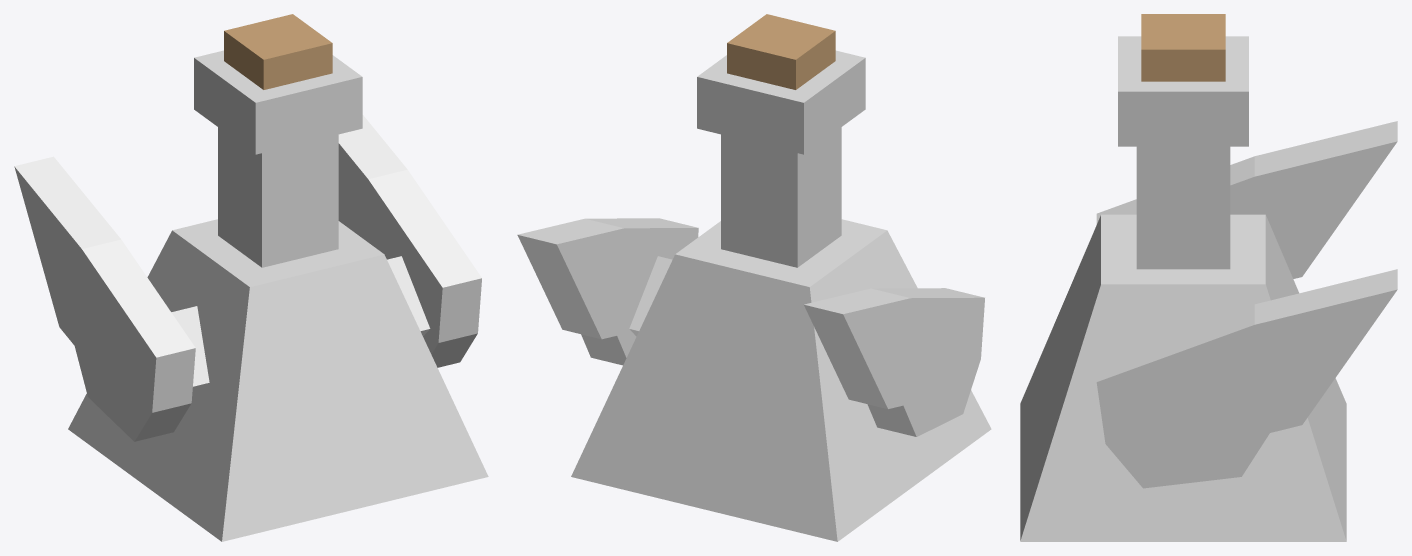
The model's file is PotionOfSpeed.fbx.
The picture shows the model from 3 angles, left to right: view 1: azimuth 30°, elevation 25°; view 2: azimuth 150°, elevation 25°; view 3: azimuth 270°, elevation 25°; orthographic projection. The views are drawn at different scales.
Parts seen in each view (by area): view 1: Cube; view 2: Cube; view 3: Cube.
Boxes of the visible parts, left/top/right/bottom form: Cube: left=14, top=14, right=488, bottom=541; Cube: left=517, top=14, right=991, bottom=541; Cube: left=1020, top=14, right=1397, bottom=541.
Bounding box in the file's own units: 98.08 × 120 × 92.86.
